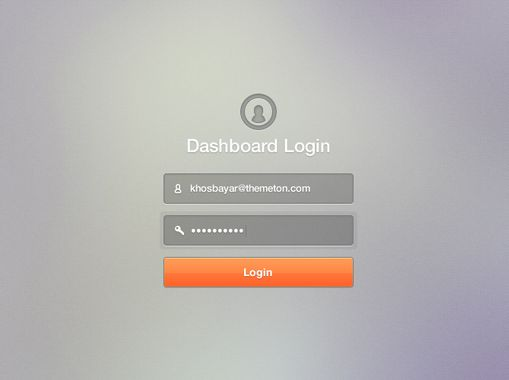_form_: (93, 36, 420, 341)
button: (163, 257, 355, 288)
field: (163, 214, 356, 247), (162, 173, 355, 205)
